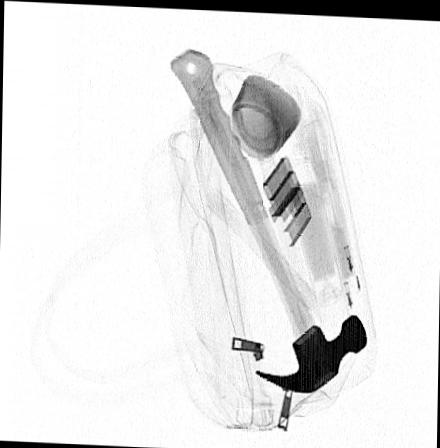Hammer: (168, 47, 367, 392)
